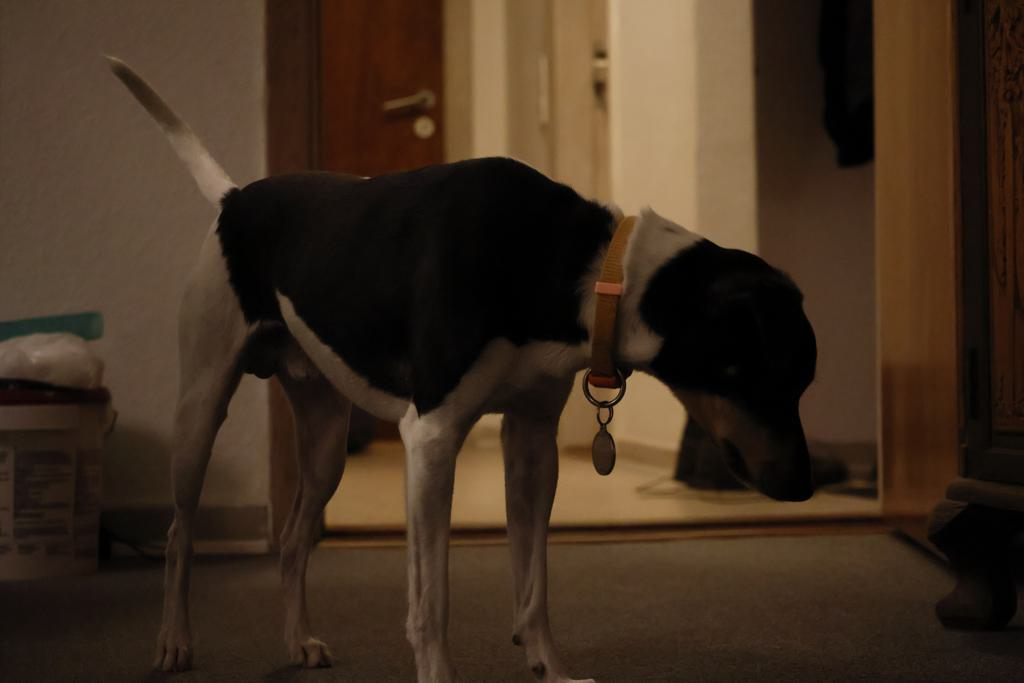Dog: (91, 46, 826, 683)
